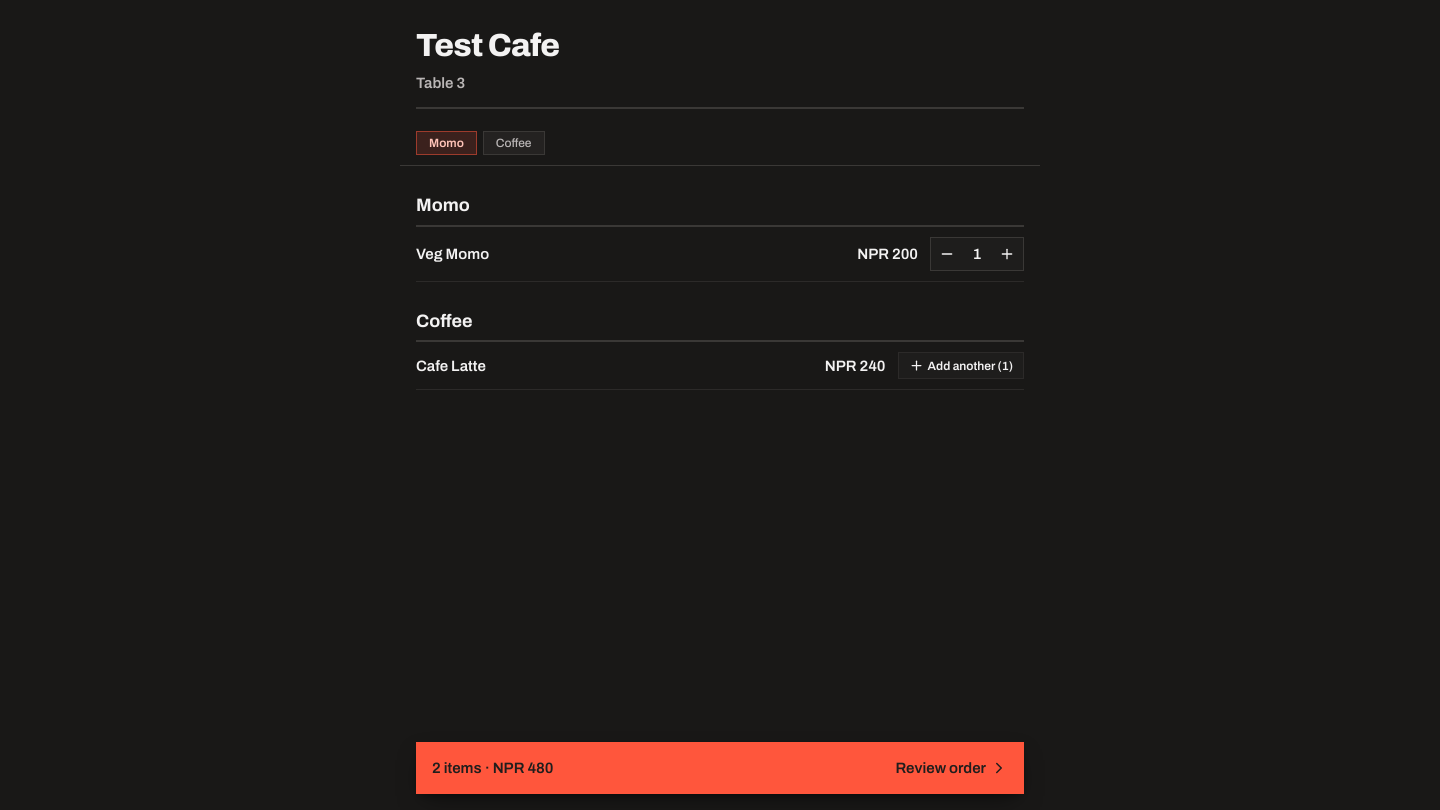
it: a cart checked against the choices just read › after a refusal, takes off only the dish the fresh menu dropped and says so
Click the button "2 items · NPR 480 Review order" at (463, 768), box [416,742,1024,794]
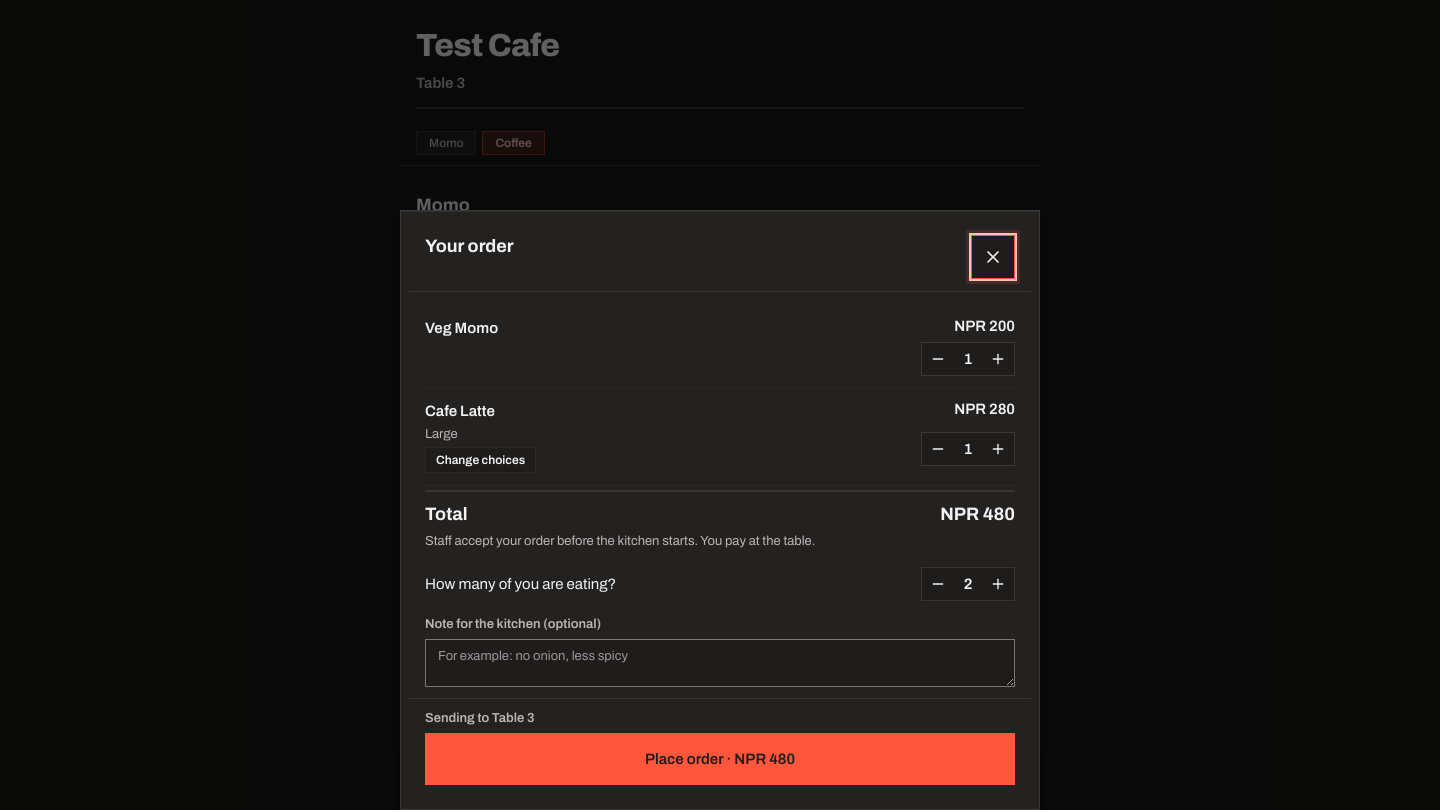
Click the button "Place order · NPR 480" at (720, 759), box [425,733,1015,785]
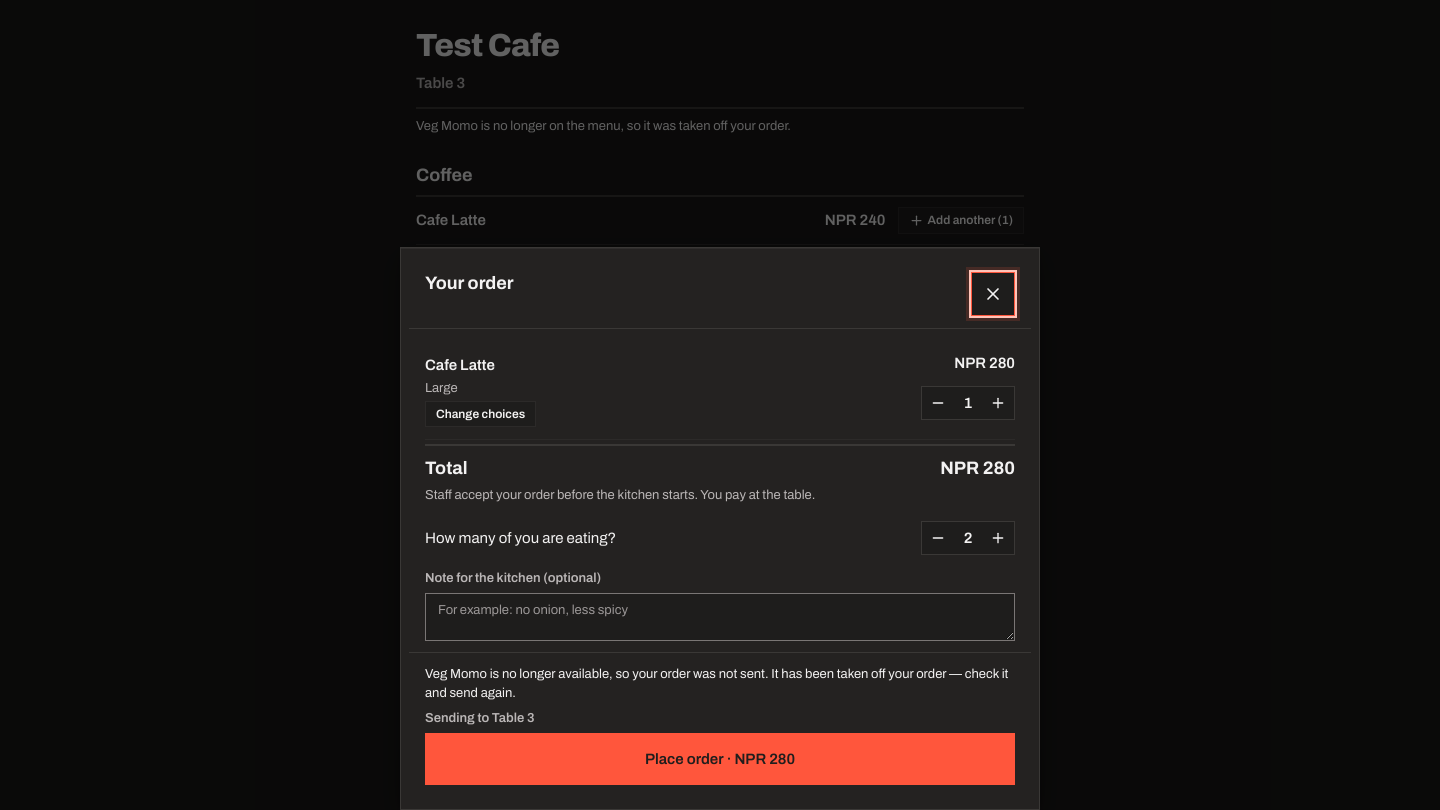
Expected: the text "Veg Momo is no longer available, so your order was not sent. It has been taken off your order" is shown, [425,667,1008,700]
Expected: the text "Veg Momo is no longer on the menu, so it was taken off your order." is shown, [416,119,791,133]
